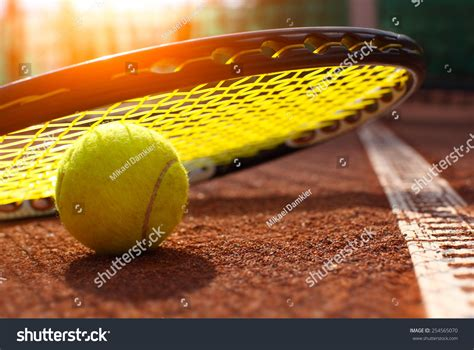tennis_ball: (54, 120, 189, 256)
